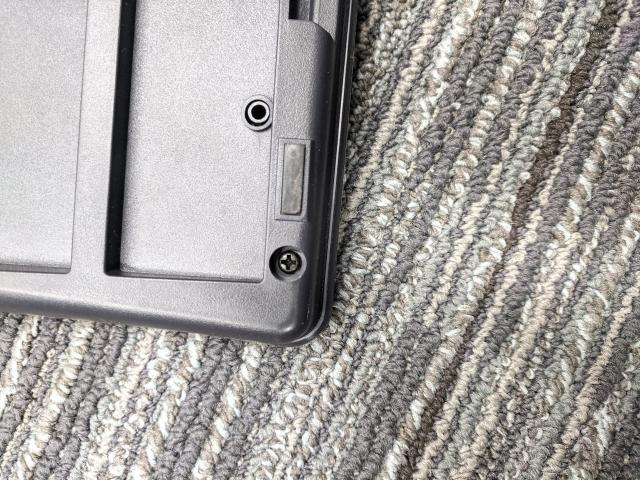CRS: (278, 251, 303, 275)
